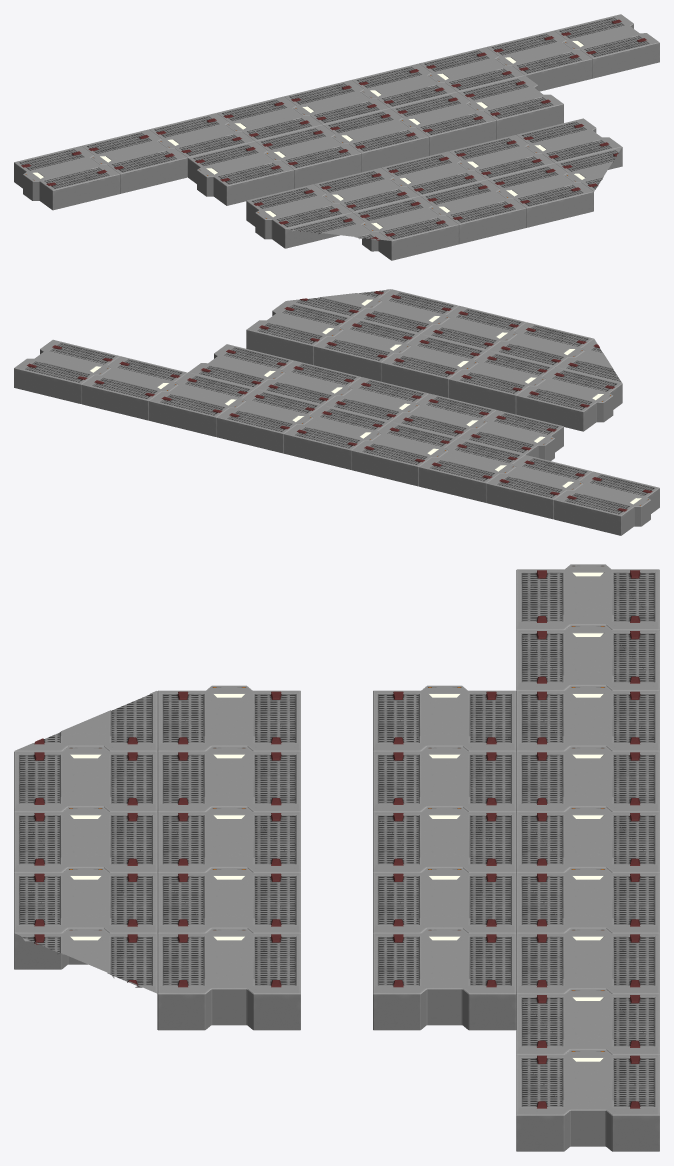
Rendered from Passage2Bridge.fbx.
3 views of the same model, one above another, from view 1: azimuth 30°, elevation 25°; view 2: azimuth 150°, elevation 25°; view 3: azimuth 270°, elevation 25° (orthographic). The views are drawn at different scales.
Parts seen in each view (by area): view 1: Passage2Bridge; view 2: Passage2Bridge; view 3: Passage2Bridge.
Part boxes in pixels (left/top/right/bottom): Passage2Bridge: left=14, top=14, right=659, bottom=260; Passage2Bridge: left=14, top=289, right=659, bottom=535; Passage2Bridge: left=14, top=564, right=659, bottom=1151.
Bounding box in the file's own units: 54.5 × 1.71 × 27.
